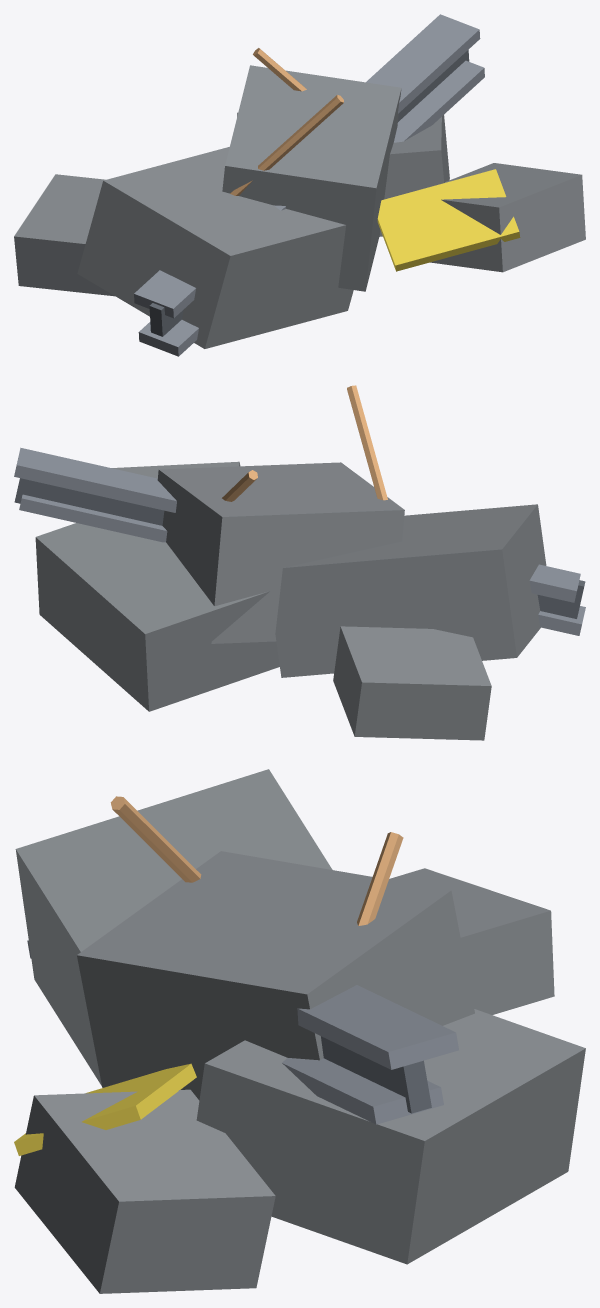
File: prop_debris_rubble.glb
3 views of the same model, one above another, from view 1: azimuth 30°, elevation 25°; view 2: azimuth 150°, elevation 25°; view 3: azimuth 270°, elevation 25° (orthographic). The views are drawn at different scales.
Parts seen in each view (by area): view 1: PropDebrisRubble; view 2: PropDebrisRubble; view 3: PropDebrisRubble.
Boxes of the visible parts, x1=… form: PropDebrisRubble: x1=14, y1=14, x2=585, y2=356; PropDebrisRubble: x1=14, y1=385, x2=585, y2=740; PropDebrisRubble: x1=14, y1=769, x2=585, y2=1293.
Bounding box in the file's own units: 2.27 × 1.06 × 1.52.
